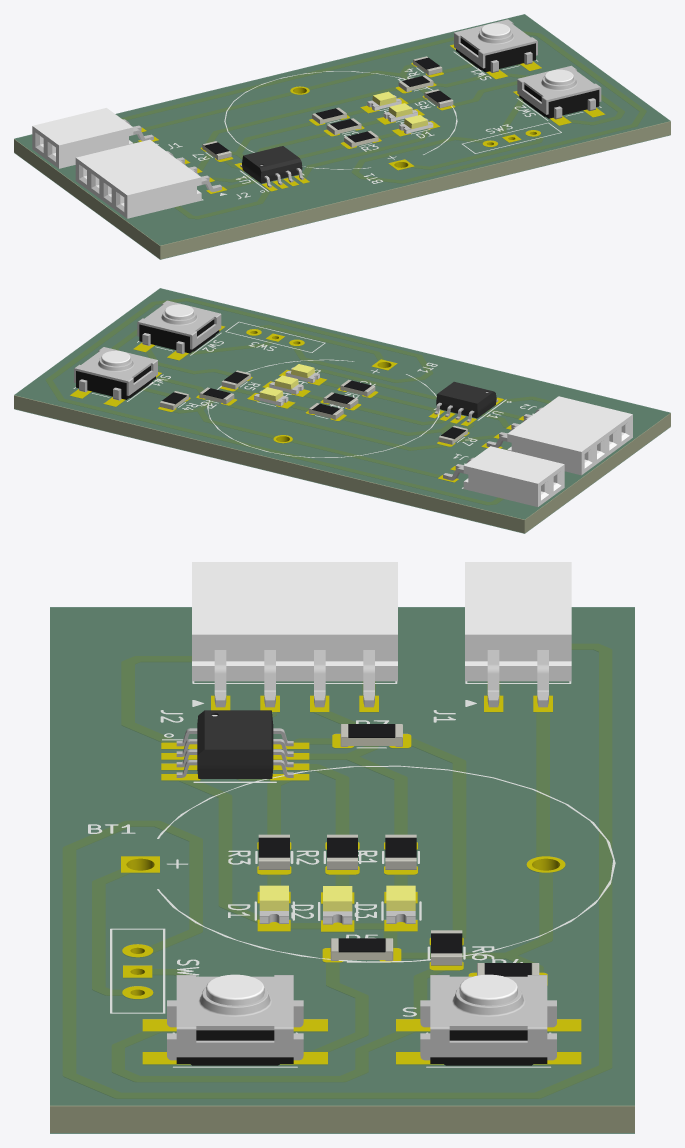
File: ATT63634.glb
The picture shows the model from 3 angles, top to bottom: view 1: azimuth 30°, elevation 25°; view 2: azimuth 150°, elevation 25°; view 3: azimuth 270°, elevation 25°; orthographic projection. The views are drawn at different scales.
Visible parts, largest first — view 1: =>[0:1:1:52], =>[0:1:1:54], =>[0:1:1:50], Cover (×2), HorizontalSocket006, HorizontalSocket001, Base (×2), =>[0:1:1:51], Package, =>[0:1:1:43] (×4), HorizontalSocket009, HorizontalSocket008 (+4 smaller); view 2: =>[0:1:1:52], =>[0:1:1:54], =>[0:1:1:50], Cover (×2), HorizontalSocket002, HorizontalSocket009, =>[0:1:1:51], Base (×2), =>[0:1:1:43] (×4), Package, HorizontalSocket001, HorizontalSocket008 (+4 smaller); view 3: =>[0:1:1:52], =>[0:1:1:54], =>[0:1:1:50], Cover (×2), =>[0:1:1:43] (×6), HorizontalSocket001, HorizontalSocket006, =>[0:1:1:51], HorizontalSocket008, HorizontalSocket002, HorizontalSocket009, HorizontalSocket007 (+4 smaller).
Part boxes in pixels (x1,y1,x2,y2): =>[0:1:1:52]: [14, 14, 670, 245]; =>[0:1:1:54]: [14, 15, 670, 259]; =>[0:1:1:50]: [122, 32, 645, 218]; Cover (×2): [454, 19, 601, 114]; HorizontalSocket006: [113, 167, 201, 218]; HorizontalSocket001: [44, 117, 133, 168]; Base (×2): [456, 38, 599, 118]; =>[0:1:1:51]: [156, 51, 601, 200]; Package: [242, 146, 302, 183]; =>[0:1:1:43] (×4): [312, 75, 433, 147]; HorizontalSocket009: [75, 139, 162, 189]; HorizontalSocket008: [88, 148, 174, 199]; =>[0:1:1:52]: [14, 288, 670, 519]; =>[0:1:1:54]: [14, 289, 670, 533]; =>[0:1:1:50]: [46, 298, 550, 504]; Cover (×2): [74, 300, 221, 395]; HorizontalSocket002: [463, 456, 552, 506]; HorizontalSocket009: [507, 424, 595, 475]; =>[0:1:1:51]: [73, 321, 536, 488]; Base (×2): [76, 319, 219, 399]; =>[0:1:1:43] (×4): [199, 379, 375, 419]; Package: [436, 381, 496, 418]; HorizontalSocket001: [476, 446, 564, 497]; HorizontalSocket008: [520, 414, 608, 464]; =>[0:1:1:52]: [50, 607, 634, 1105]; =>[0:1:1:54]: [50, 608, 634, 1132]; =>[0:1:1:50]: [63, 644, 611, 1098]; Cover (×2): [176, 975, 547, 1057]; =>[0:1:1:43] (×6): [258, 724, 462, 965]; HorizontalSocket001: [465, 562, 522, 681]; HorizontalSocket006: [192, 562, 249, 681]; =>[0:1:1:51]: [88, 681, 615, 1067]; HorizontalSocket008: [291, 562, 348, 681]; HorizontalSocket002: [514, 562, 571, 681]; HorizontalSocket009: [340, 562, 397, 681]; HorizontalSocket007: [241, 562, 298, 681].
Bounding box in the file's own units: 0.0605 × 0.00475 × 0.03.
